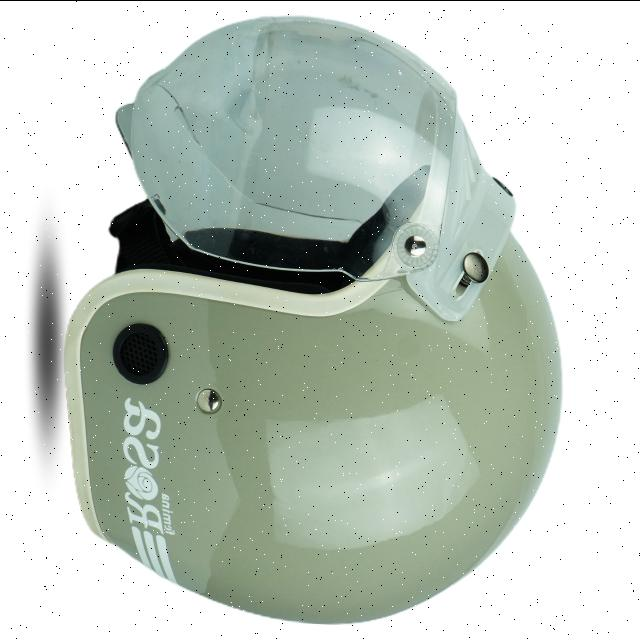Helmet: (60, 15, 562, 624)
